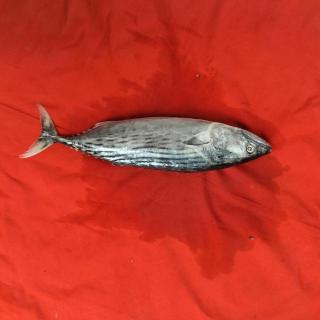Ikan: (27, 91, 275, 186)
